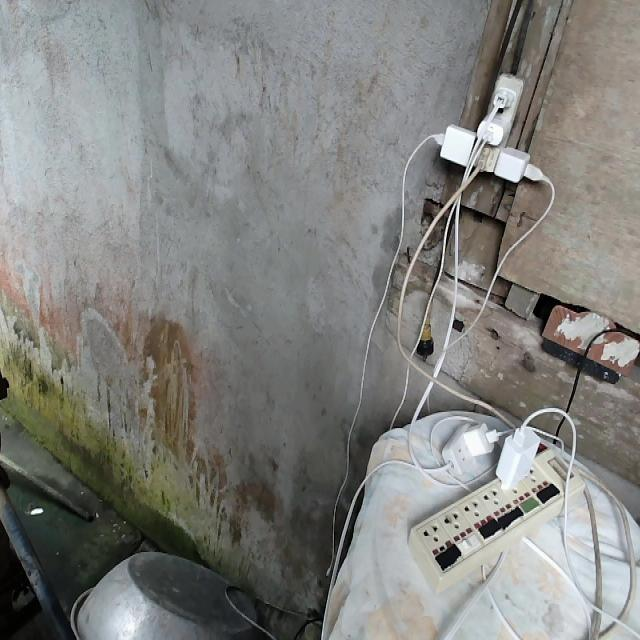-: (438, 70, 539, 182)
